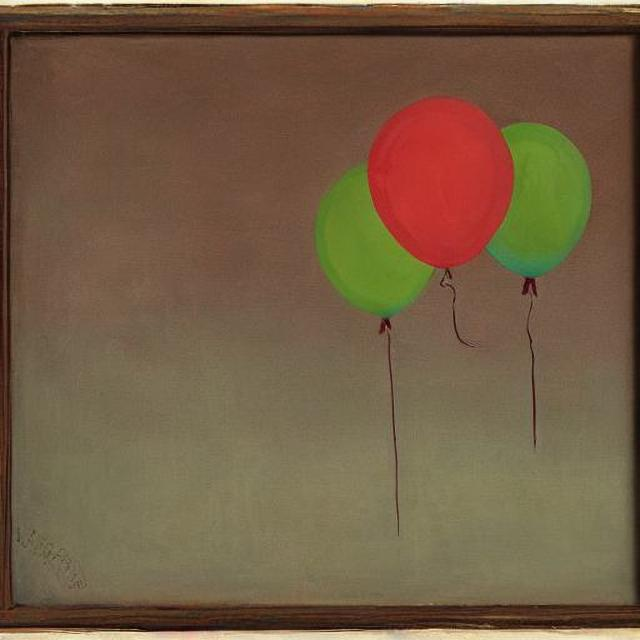balloon: (306, 89, 594, 317)
floating object: (381, 315, 406, 534), (520, 264, 542, 450)
